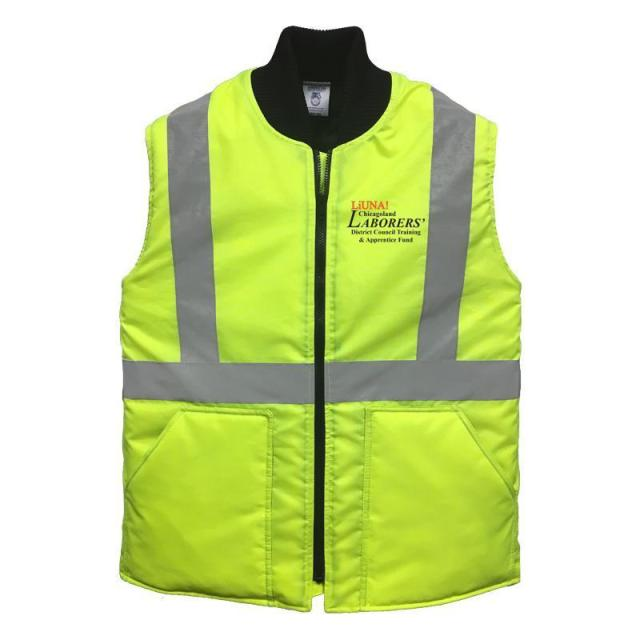Vest: (122, 27, 522, 616)
